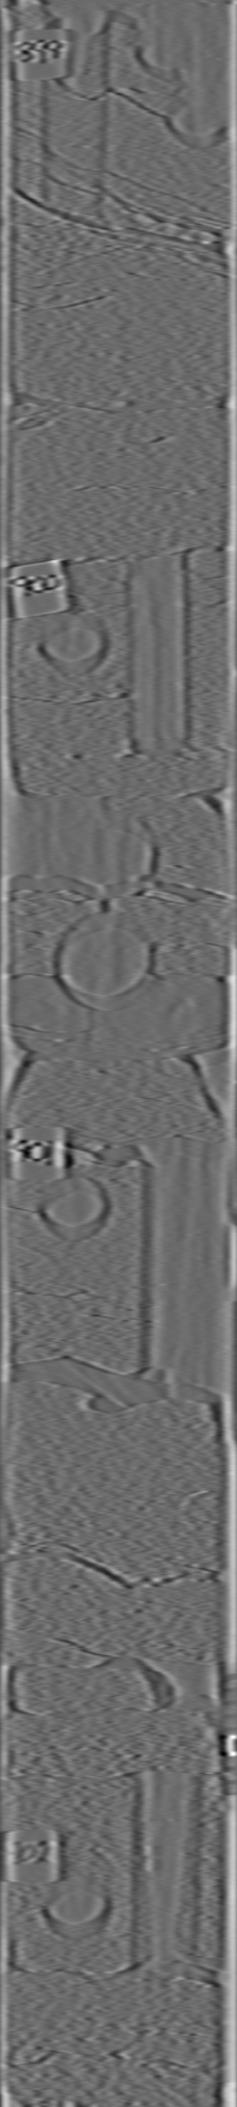hplug: (32, 1165, 114, 1248), (34, 1866, 117, 1948), (34, 602, 114, 679), (154, 85, 232, 157), (131, 21, 186, 87)
scal: (48, 904, 167, 1015), (75, 800, 162, 904)
vplug: (131, 1135, 215, 1407), (121, 1758, 207, 1977), (35, 1, 114, 222), (114, 552, 197, 765)
